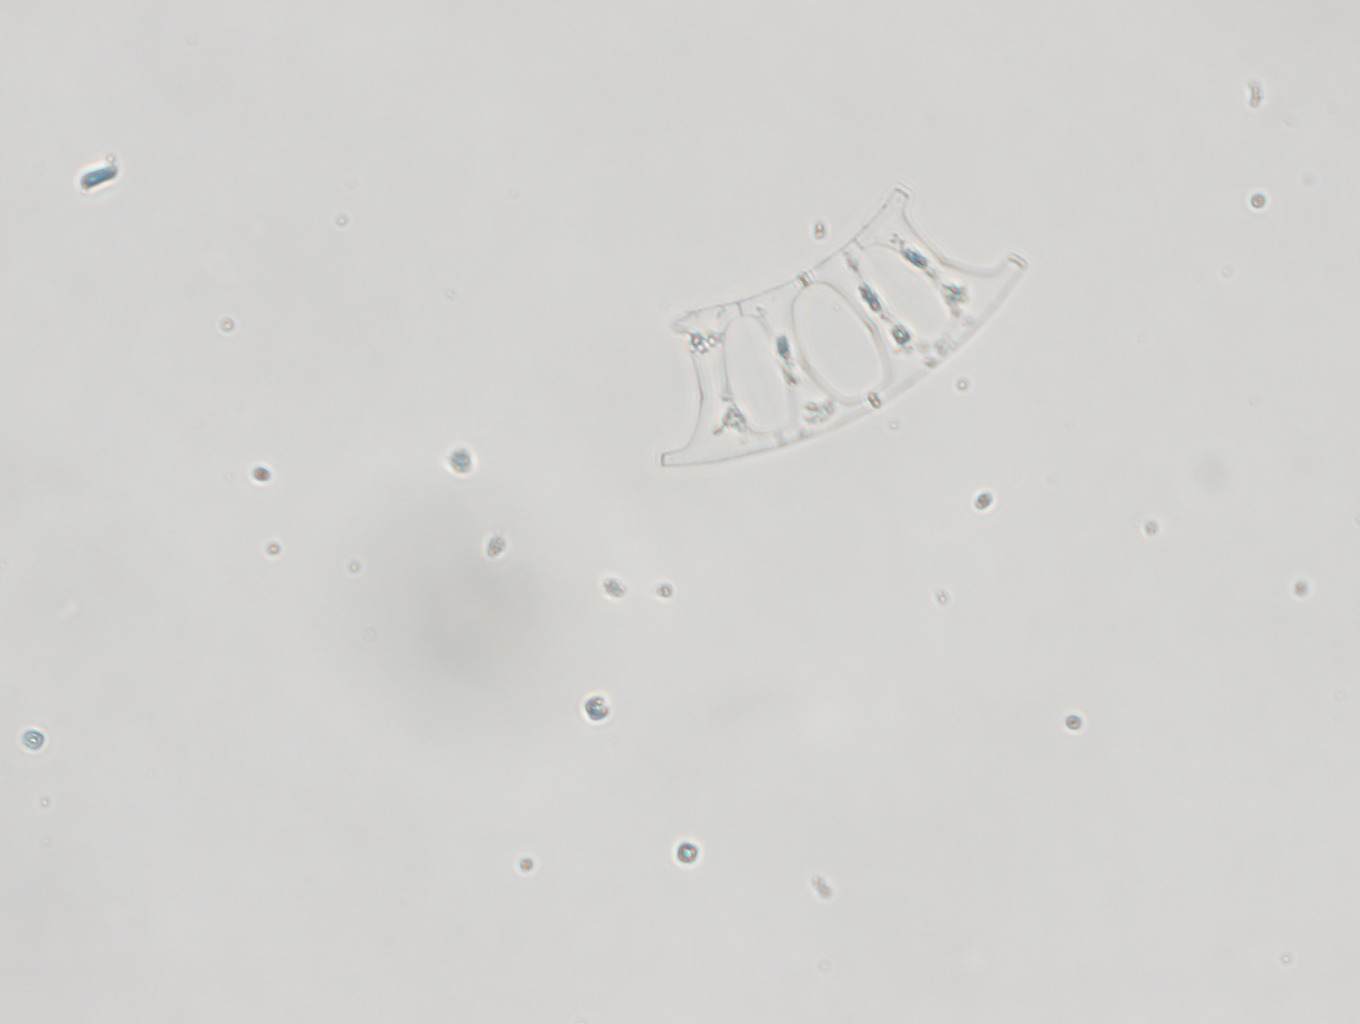eucampia: (657, 189, 1033, 477)
